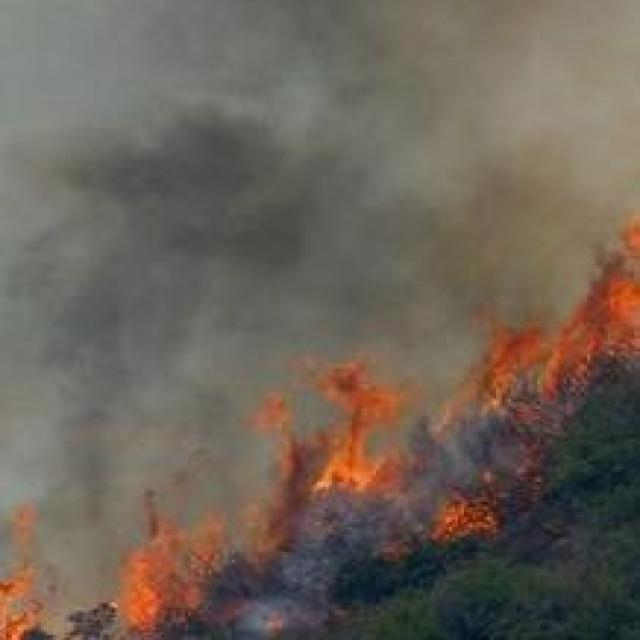Fire: (110, 324, 640, 621)
Smoke: (21, 18, 620, 494)
